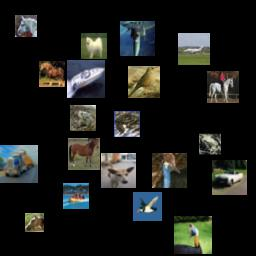airplane: (120, 21, 155, 56), (178, 33, 210, 65)
automobile: (212, 160, 247, 195)
bird: (174, 216, 212, 254), (152, 153, 187, 188), (128, 66, 160, 98), (133, 192, 162, 221)
dog: (101, 153, 136, 188), (81, 33, 107, 59)
frog: (114, 111, 140, 137), (70, 105, 96, 131), (199, 133, 221, 155)
ship: (67, 60, 105, 98), (63, 183, 89, 209)
truck: (0, 145, 38, 183)
